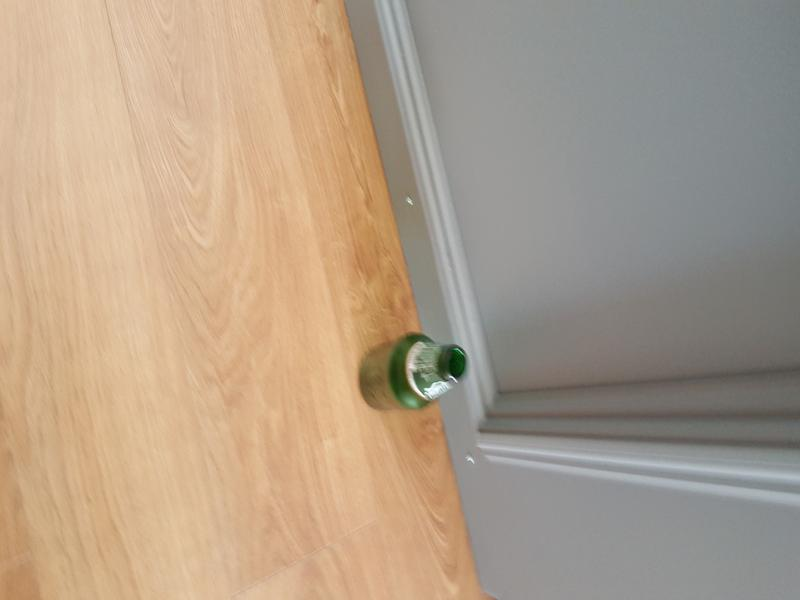Beer: (359, 334, 466, 409)
